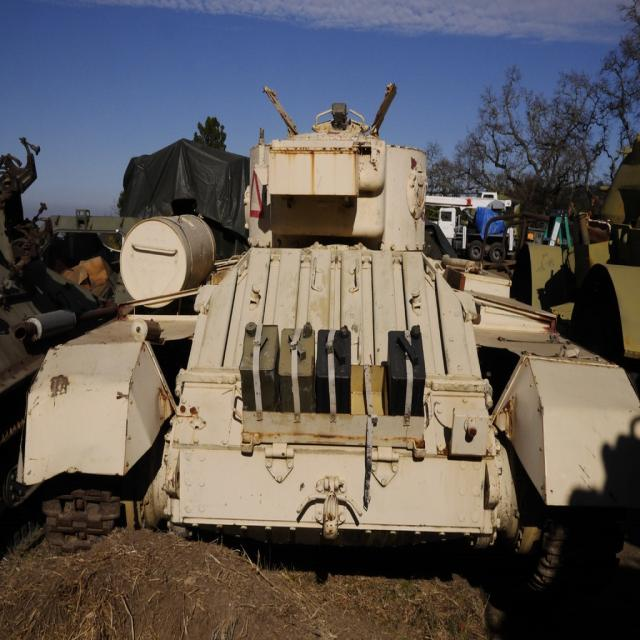tank: (17, 83, 639, 639)
